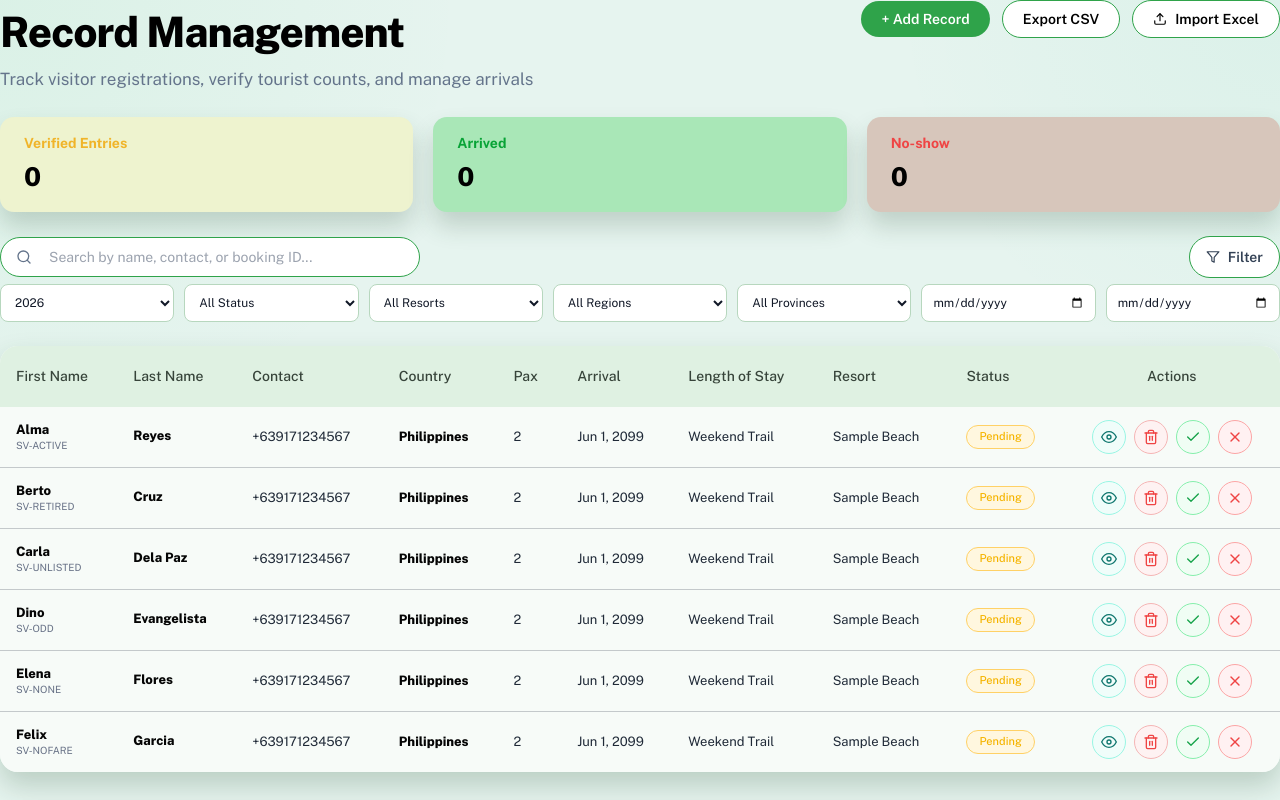
Test: the dropdown is never blank while the record holds a fare › SV-ACTIVE: something real is selected, and its value is the record's own text
Click the button with class "booking-icon-btn" in the row of "Alma" at (1109, 436), box [1092,420,1126,454]
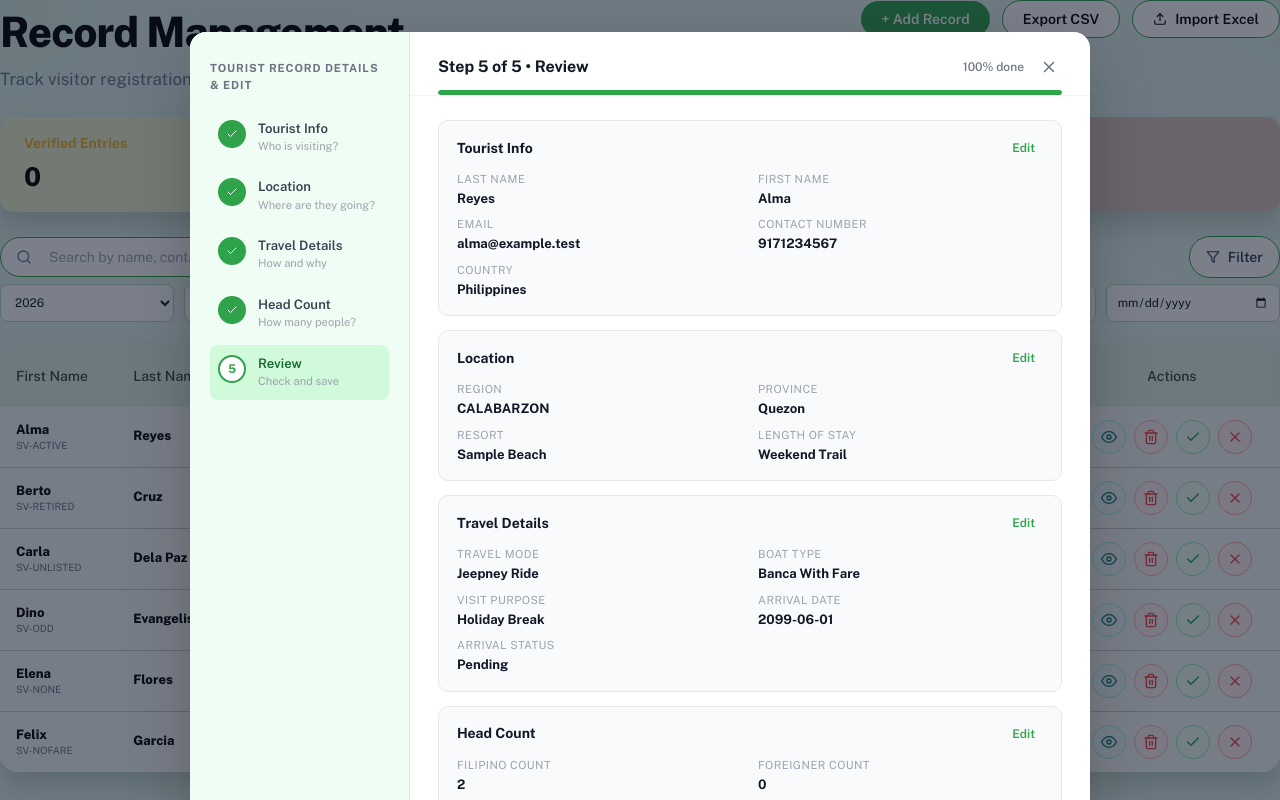
Now the text "Tourist Record Details & Edit" is shown, box [210,60,389,94]
Click the text "Travel Details" at (280, 254), box [218,237,342,270]
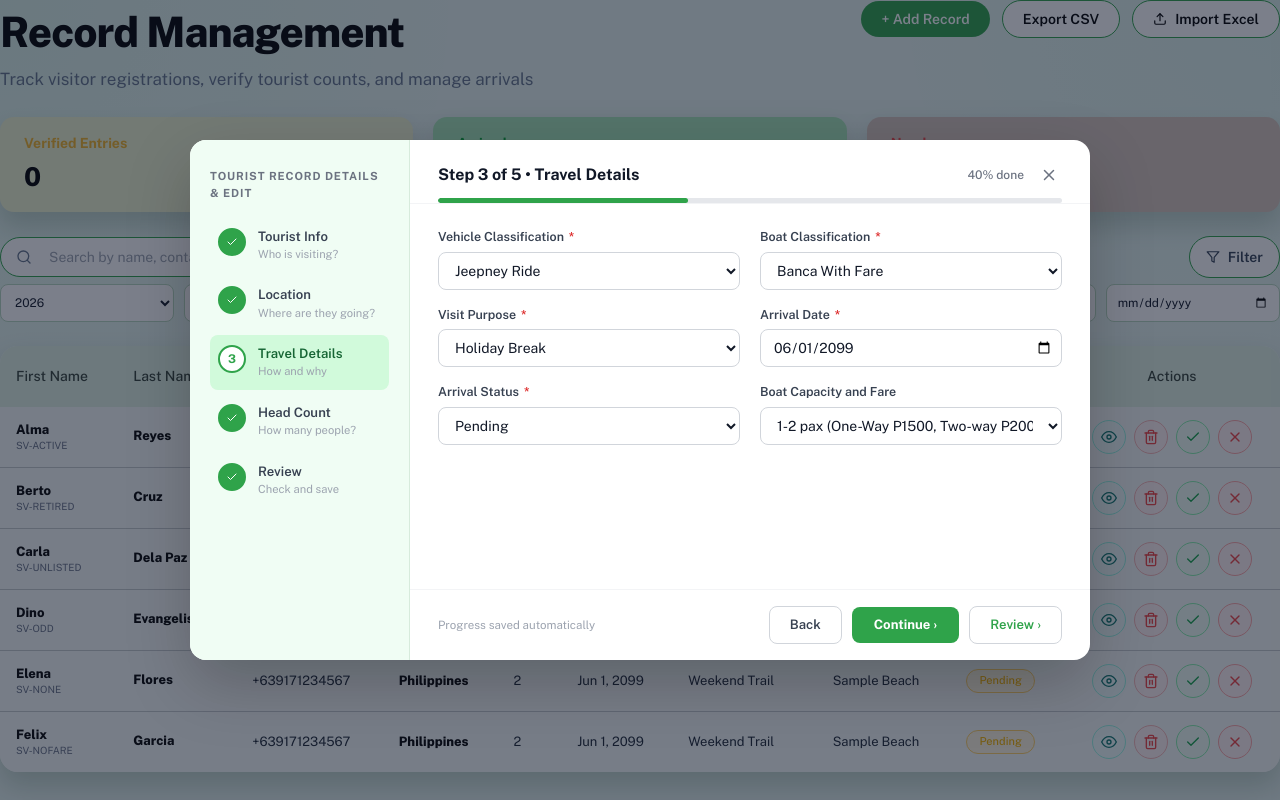
Now the dropdown "Select capacity and fare" below "Boat Capacity and Fare" shows "1-2 pax (One-Way P1500, Two-way P2000)", box [760,407,1062,445]
